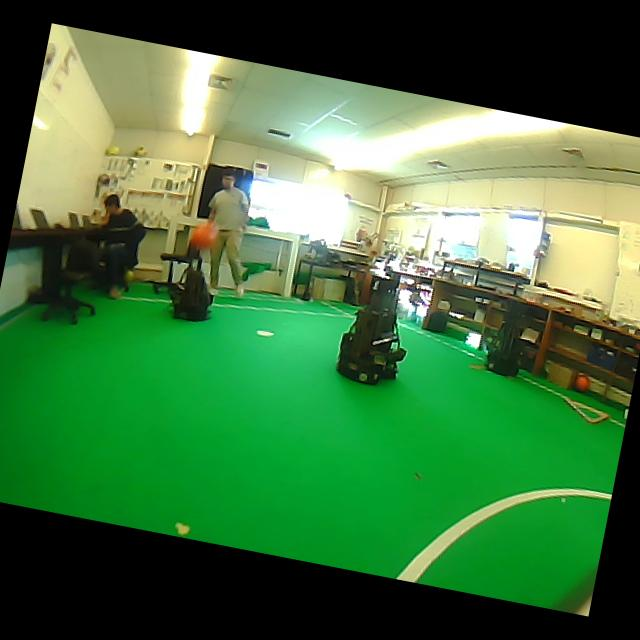ball: (190, 221, 219, 249), (574, 373, 591, 392), (124, 269, 134, 291), (133, 146, 147, 157), (106, 146, 119, 156)
goal: (282, 235, 300, 297)
robot: (336, 277, 406, 384), (487, 301, 521, 376), (169, 262, 210, 320)
